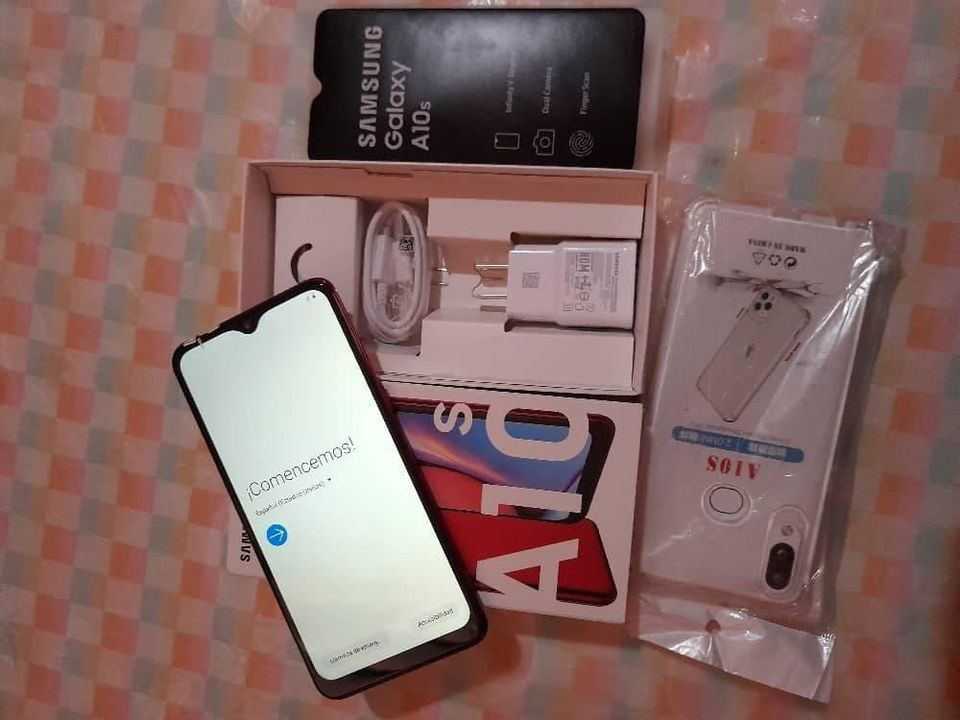Cell Phone: (170, 279, 490, 708)
